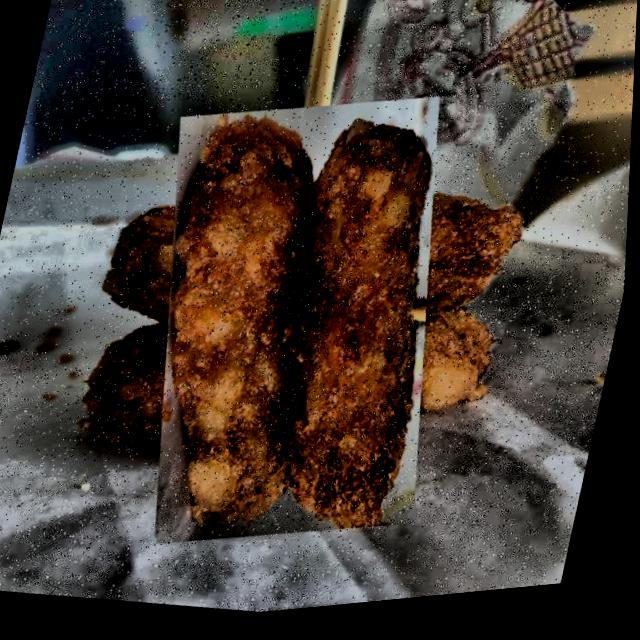Food: (64, 82, 534, 571)
